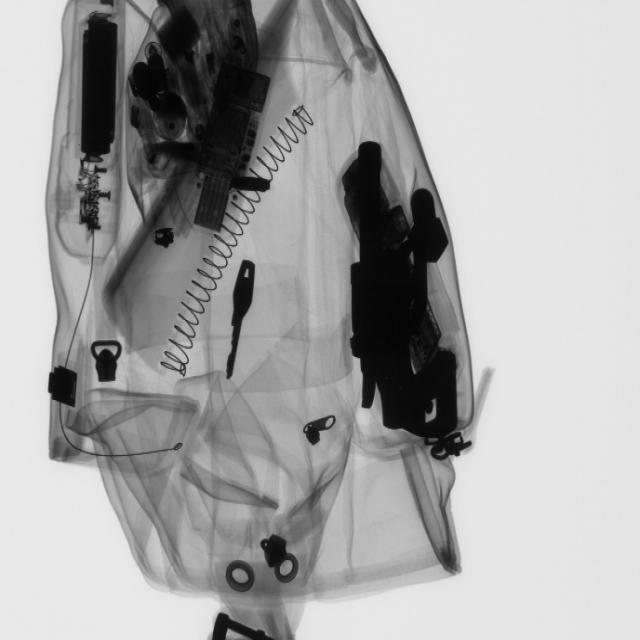GUN: (346, 127, 449, 473)
